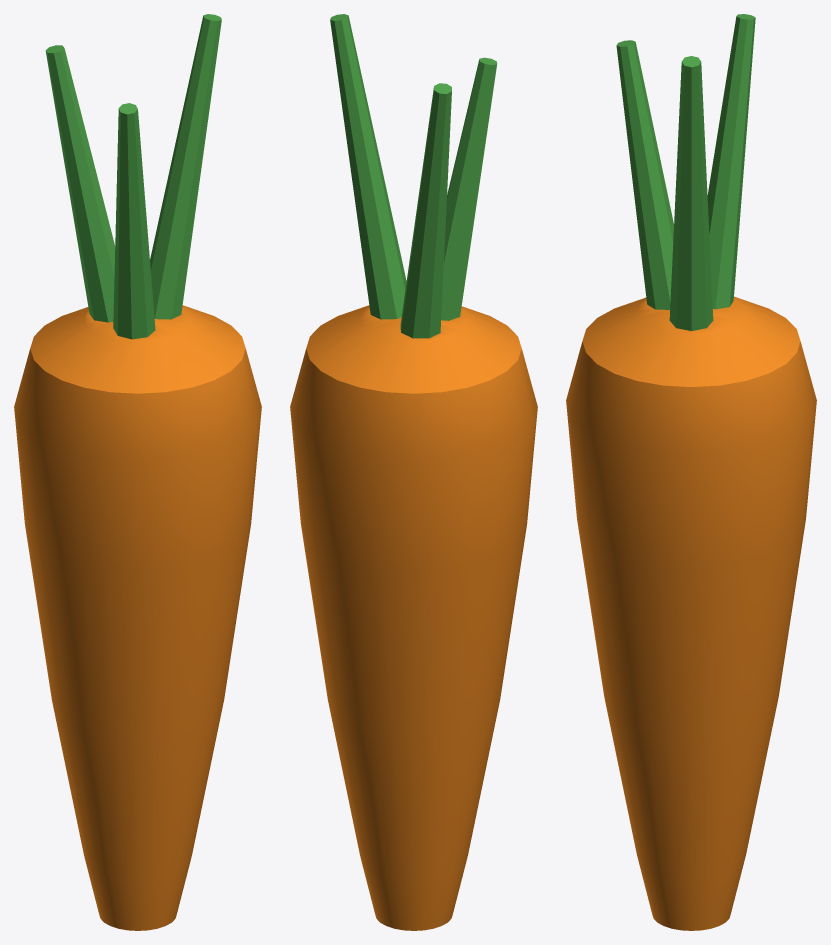
The model's file is carrot.glb.
The picture shows the model from 3 angles, left to right: view 1: azimuth 30°, elevation 25°; view 2: azimuth 150°, elevation 25°; view 3: azimuth 270°, elevation 25°; orthographic projection.
Parts seen in each view (by area): view 1: carrot; view 2: carrot; view 3: carrot.
Part boxes in pixels (x1,y1,x2,y2): carrot: [14, 14, 261, 930]; carrot: [290, 14, 537, 930]; carrot: [566, 14, 816, 930].
Bounding box in the file's own units: 0.023 × 0.09 × 0.023.
